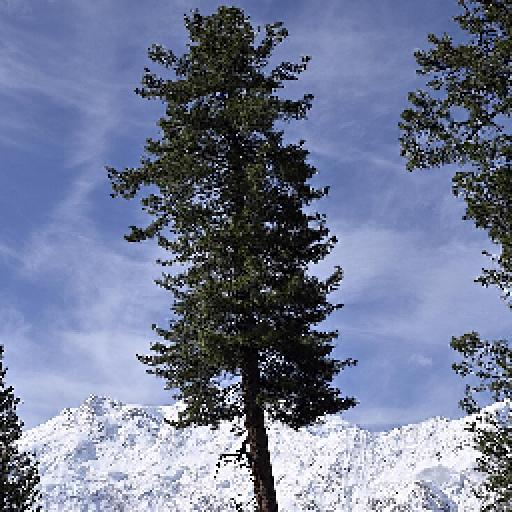trees: (104, 4, 360, 510), (398, 0, 510, 268), (448, 330, 510, 510), (0, 342, 42, 510)
